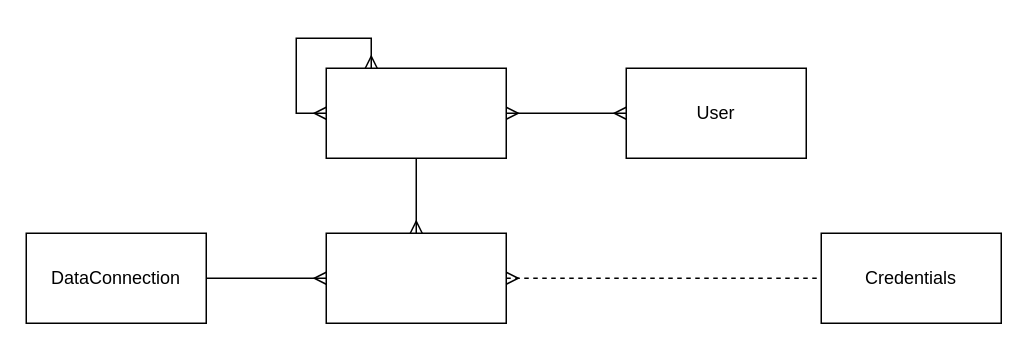
This 1028x350 diagram has some shape labels left out. Here are the shapes that lost their labels. From the top down, the centre of each, then its label:
At pixel 415 112: "Group".
At pixel 415 277: "Credentials ID".
